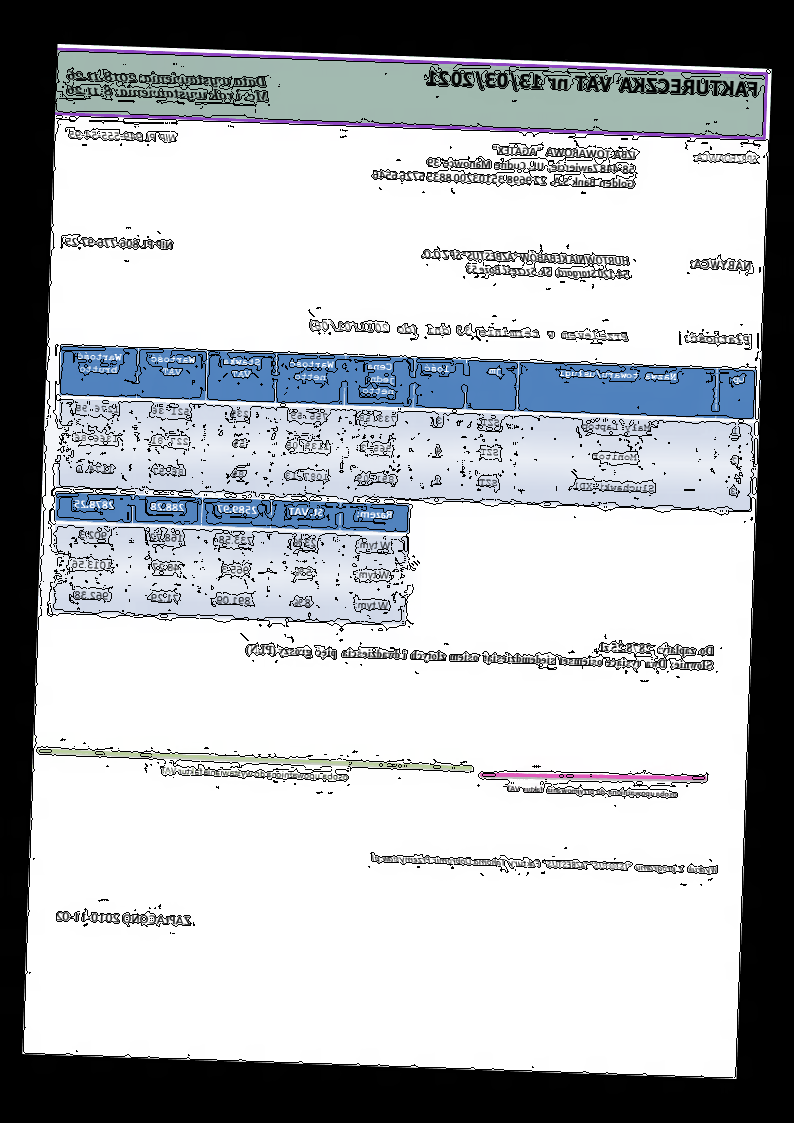Table: (55, 343, 758, 514), (51, 491, 411, 626)
TextBox: (243, 627, 717, 675), (371, 139, 638, 191), (425, 67, 761, 102), (369, 851, 720, 878), (307, 318, 629, 345), (66, 67, 274, 106), (419, 248, 631, 281), (160, 764, 351, 784), (506, 782, 680, 801), (56, 908, 194, 928), (65, 235, 176, 252), (68, 128, 178, 145), (683, 330, 753, 347), (693, 149, 759, 167), (690, 256, 754, 273)
